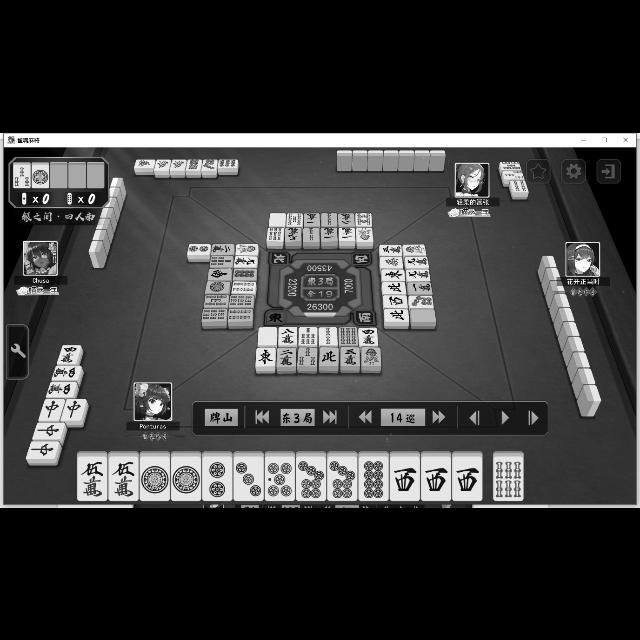1m: (407, 280, 433, 294), (321, 226, 337, 240), (304, 212, 320, 226), (338, 228, 356, 240)
1p: (140, 456, 170, 500), (172, 456, 202, 500), (31, 164, 49, 186), (204, 280, 230, 294)
1s: (362, 346, 381, 366), (402, 243, 426, 254), (235, 243, 257, 254), (356, 227, 372, 241)
2m: (276, 347, 296, 367), (210, 243, 234, 254), (338, 212, 356, 225)
2p: (202, 458, 232, 500), (187, 243, 211, 254)
2s: (318, 326, 338, 346), (320, 212, 338, 226), (303, 226, 319, 240)
3m: (340, 346, 360, 366), (380, 243, 402, 255)
3p: (232, 457, 264, 501)
3s: (298, 346, 318, 366), (14, 164, 31, 186), (503, 169, 525, 179)
4m: (44, 380, 76, 398), (50, 364, 80, 380), (58, 344, 80, 364), (358, 326, 378, 344)
4s: (228, 308, 252, 322), (230, 281, 256, 293), (510, 179, 528, 191)
5m: (108, 456, 140, 500), (77, 456, 106, 500)
5p: (265, 456, 295, 500)
5s: (204, 294, 228, 306), (286, 212, 302, 226), (501, 160, 522, 170)
6s: (493, 458, 522, 500), (338, 326, 358, 346)
7p: (327, 456, 357, 500), (296, 456, 326, 499), (408, 296, 432, 308), (200, 158, 218, 170)
7s: (300, 326, 318, 344), (210, 255, 232, 267)
8m: (279, 326, 297, 344)
8p: (358, 456, 389, 500), (358, 455, 388, 499), (233, 268, 257, 280), (185, 158, 201, 170)
8s: (355, 212, 371, 226)
9m: (406, 268, 430, 280), (404, 256, 428, 268), (234, 256, 258, 268), (284, 227, 302, 241)
9p: (218, 158, 238, 168)
9s: (200, 308, 226, 320), (230, 294, 254, 306), (266, 227, 284, 241)
chun: (30, 422, 66, 440), (62, 398, 86, 422), (38, 399, 64, 421), (27, 442, 58, 458)
haku: (410, 308, 436, 322), (257, 327, 277, 345), (268, 212, 286, 226)
hatsu: (381, 256, 404, 268), (170, 158, 187, 170), (154, 158, 170, 170), (133, 159, 155, 167)
nan: (207, 266, 233, 280)
pe: (320, 346, 338, 366), (384, 308, 408, 322), (381, 282, 405, 294)
sha: (390, 456, 420, 500), (421, 456, 451, 500), (453, 456, 482, 500), (383, 294, 407, 308)
tou: (255, 346, 275, 366), (381, 270, 405, 280)
